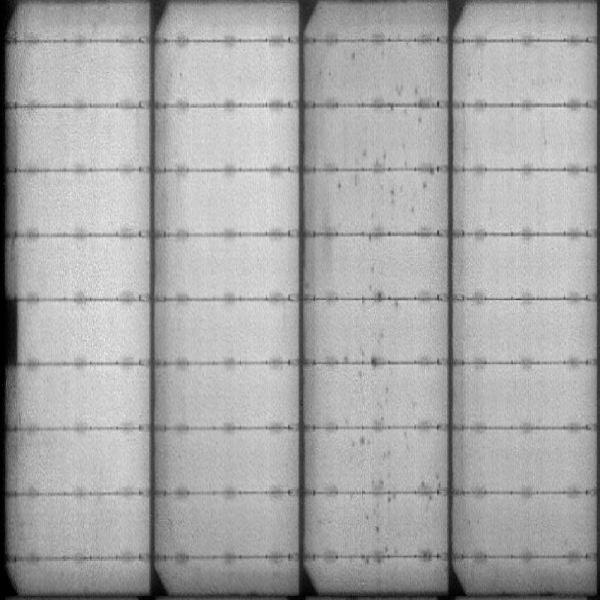black_border: (1, 291, 24, 364)
